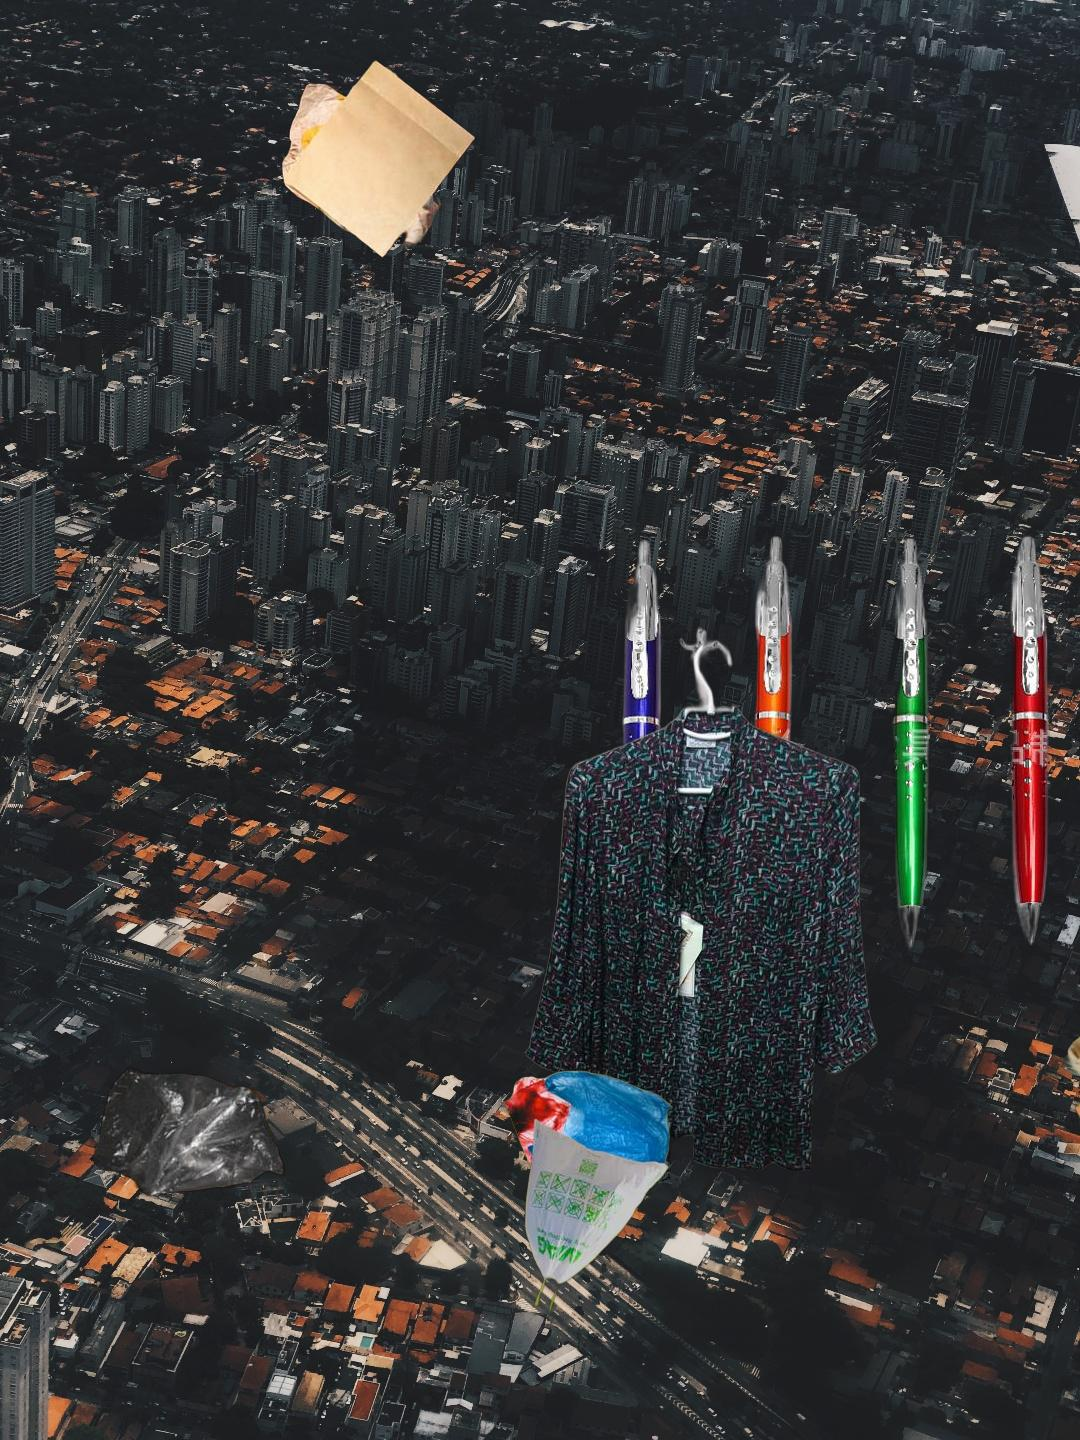clothes: (521, 621, 898, 1208)
paper-bag: (279, 56, 478, 261), (1016, 986, 1080, 1233)
penholder: (601, 531, 1080, 951)
plastic-bag: (410, 1037, 676, 1320), (92, 1065, 286, 1198)
